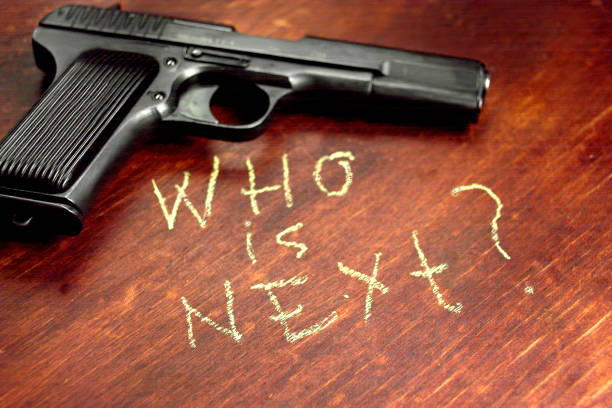gun: (0, 5, 490, 250)
